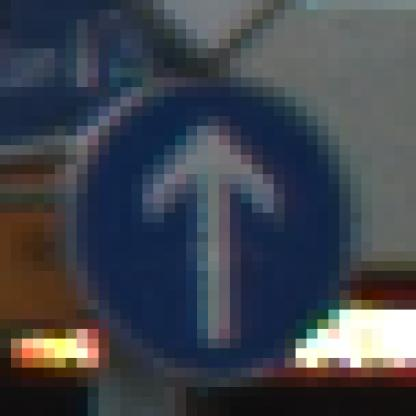AheadOnly: (56, 59, 362, 369)
